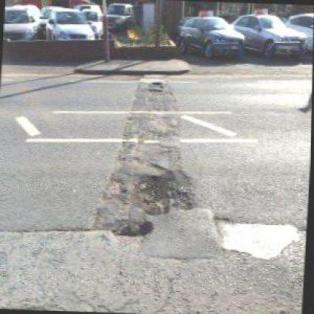Hueco: (125, 165, 198, 216), (113, 218, 156, 242), (148, 80, 165, 97)
